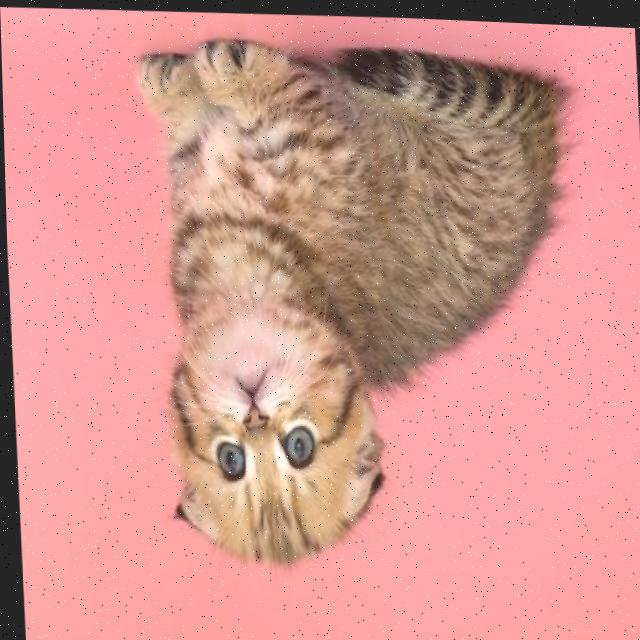Scottish Fold: (127, 18, 593, 586)
